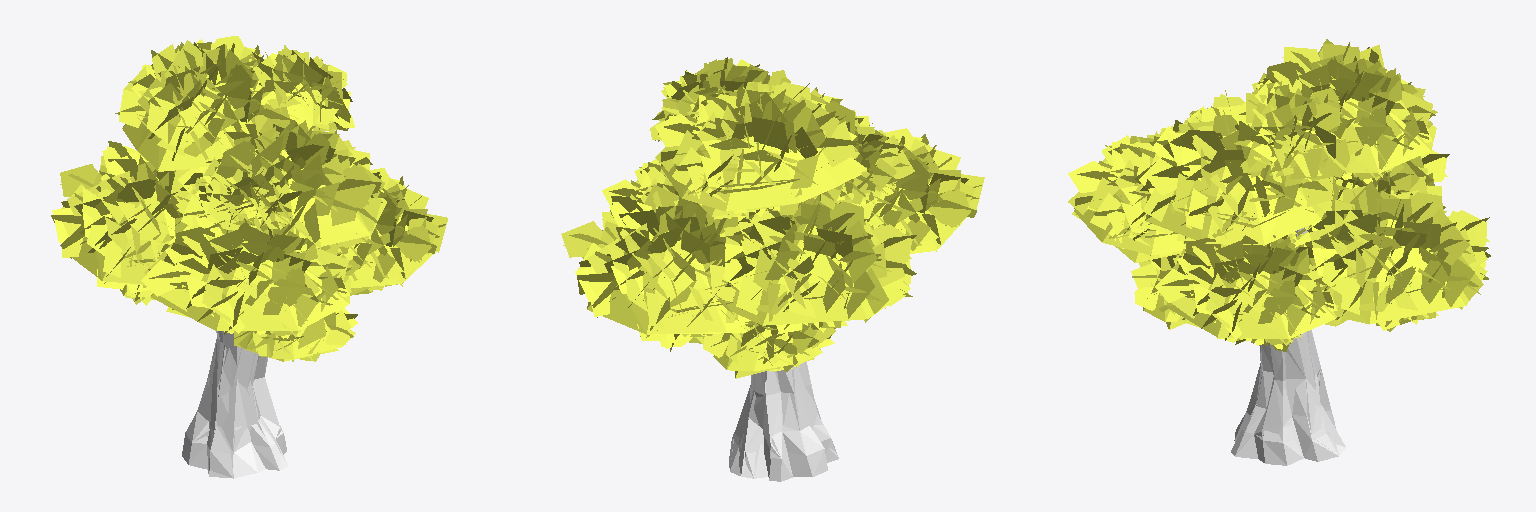
Rendered from tree_1.obj.
3 renders of one model, left to right at view 1: azimuth 30°, elevation 25°; view 2: azimuth 150°, elevation 25°; view 3: azimuth 270°, elevation 25°, orthographic.
Parts seen in each view (by area): view 1: tree_1_LOD0, tree_1_LOD1, tree_1_LOD2; view 2: tree_1_LOD0, tree_1_LOD1, tree_1_LOD2; view 3: tree_1_LOD0, tree_1_LOD1, tree_1_LOD2.
Part boxes in pixels (x1,y1,x2,y2): tree_1_LOD0: (51,36,447,478); tree_1_LOD1: (52,39,447,477); tree_1_LOD2: (60,42,444,332); tree_1_LOD0: (562,57,984,481); tree_1_LOD1: (561,58,984,481); tree_1_LOD2: (563,78,983,348); tree_1_LOD0: (1068,39,1490,465); tree_1_LOD1: (1068,43,1488,458); tree_1_LOD2: (1068,46,1490,327).
Size of the model in its own units: 13.8 by 16.13 by 15.62.